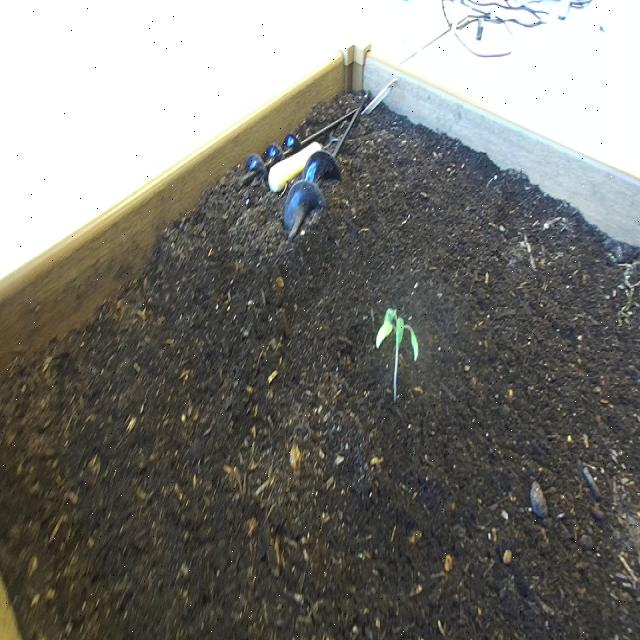Healthy: (371, 293, 422, 425)
